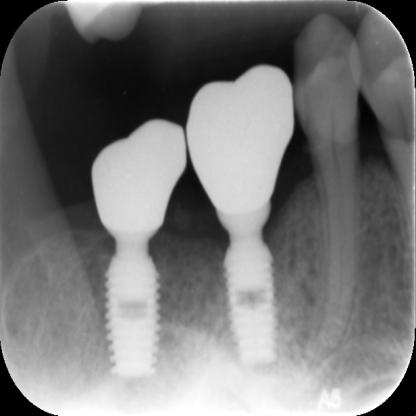Bicon: (216, 208, 288, 368), (100, 224, 168, 379)
